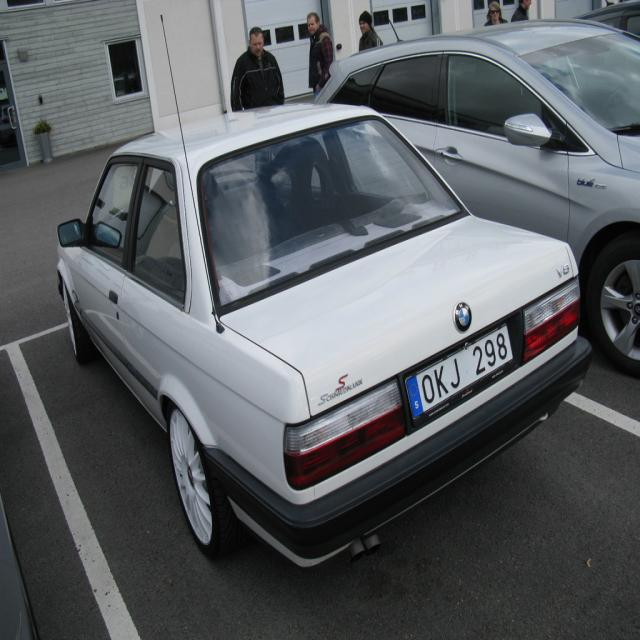car: (54, 92, 605, 573)
